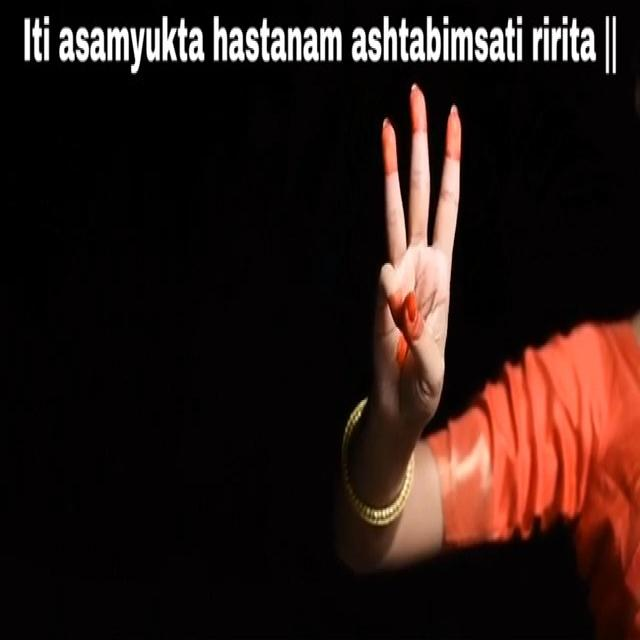Trishula: (356, 82, 480, 466)
bangle: (331, 417, 418, 535)
text: (7, 7, 622, 88)
